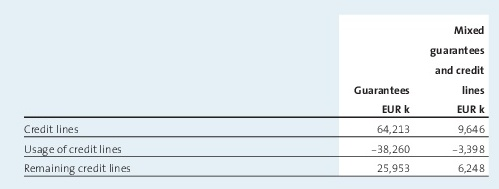table: (0, 0, 499, 189)
